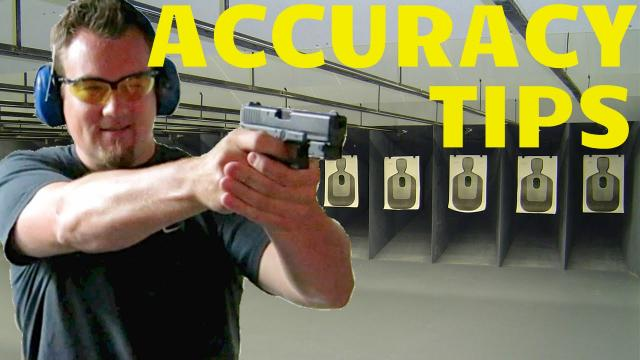handgun: (237, 100, 351, 180)
